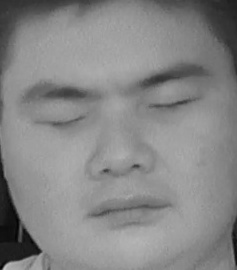blink: (30, 103, 90, 141), (150, 88, 201, 122)
mouth: (89, 187, 175, 234)
